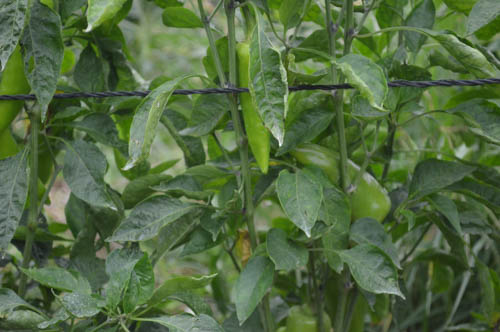ChiliPepper: (293, 143, 390, 227), (240, 41, 269, 178)
